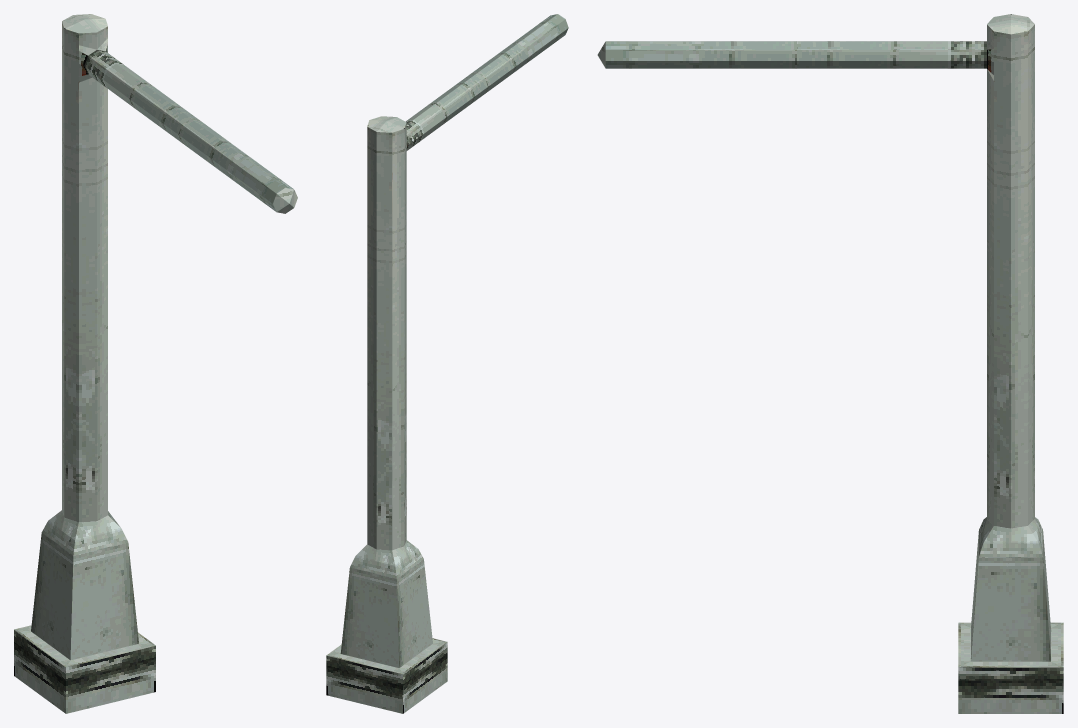
File: traffic_ligh_pole_L.glb
3 views of the same model, side by side, from view 1: azimuth 30°, elevation 25°; view 2: azimuth 150°, elevation 25°; view 3: azimuth 270°, elevation 25° (orthographic). The views are drawn at different scales.
Visible parts, largest first — view 1: traffic_ligh_pole_L; view 2: traffic_ligh_pole_L; view 3: traffic_ligh_pole_L.
Part boxes in pixels (x1,y1,x2,y2): traffic_ligh_pole_L: (14,14,297,713); traffic_ligh_pole_L: (326,14,568,713); traffic_ligh_pole_L: (597,14,1063,713).
Bounding box in the file's own units: 0.8032 × 5.66 × 3.56.
1 material, 1 textured.
